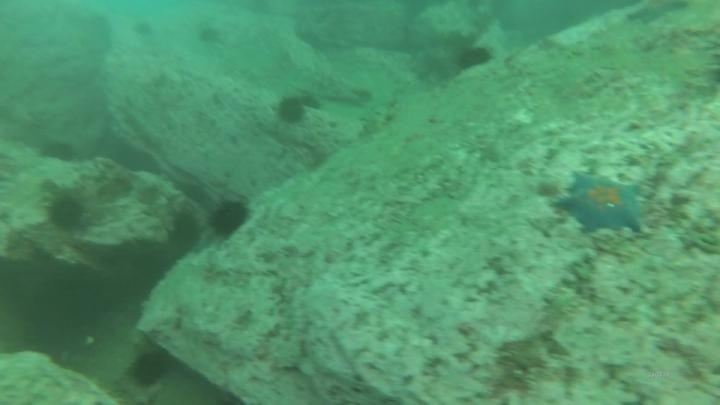echinus: (208, 197, 251, 239), (45, 193, 88, 233), (129, 349, 170, 389), (168, 209, 203, 253), (454, 43, 494, 73), (274, 94, 309, 126), (38, 138, 78, 165), (195, 23, 224, 47), (131, 19, 156, 40)
starfish: (554, 171, 650, 236), (625, 1, 692, 28)
